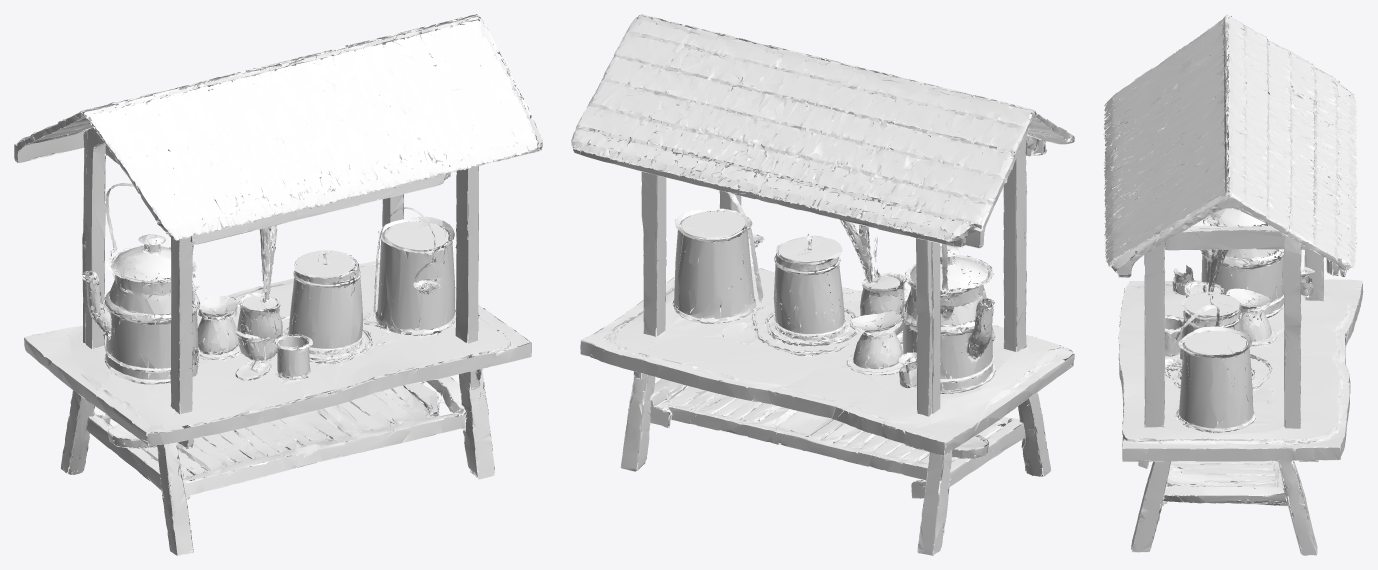
Rendered from beach-chai-tapri.glb.
The picture shows the model from 3 angles, left to right: view 1: azimuth 30°, elevation 25°; view 2: azimuth 150°, elevation 25°; view 3: azimuth 270°, elevation 25°; orthographic projection. The views are drawn at different scales.
Visible parts, largest first — view 1: model; view 2: model; view 3: model.
Boxes of the visible parts, bbox=[...] form: model: bbox=[14, 14, 542, 555]; model: bbox=[571, 14, 1074, 555]; model: bbox=[1103, 14, 1363, 555].
Bounding box in the file's own units: 1.9 × 1.84 × 1.15.
1 material, 1 textured.
